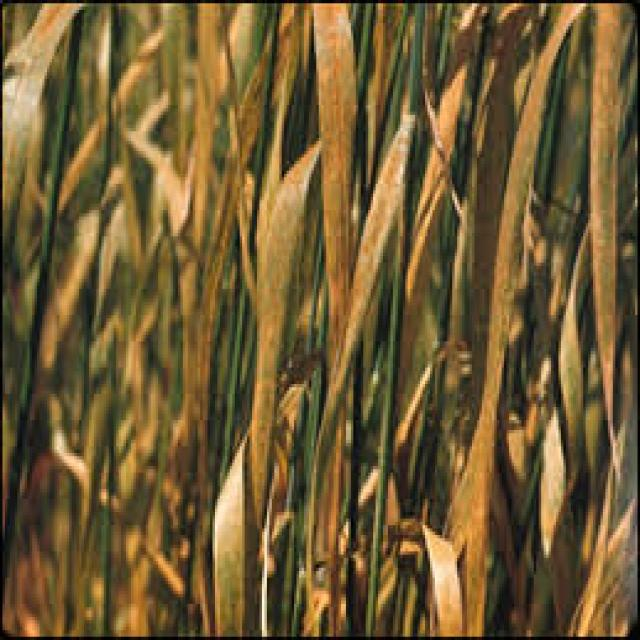leaf rust: (3, 3, 630, 624)
